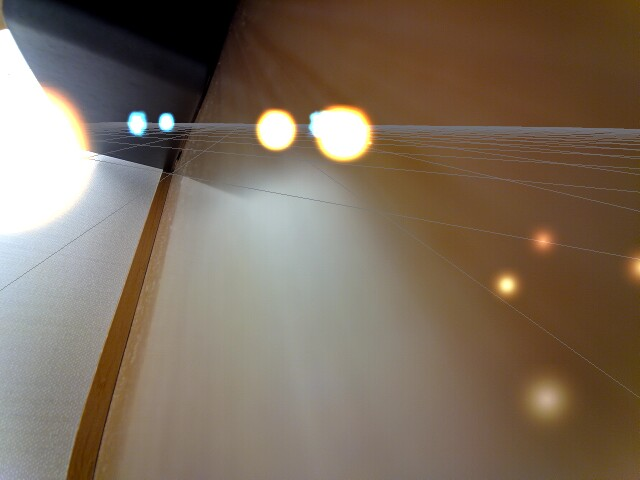firebig: (0, 70, 94, 241)
